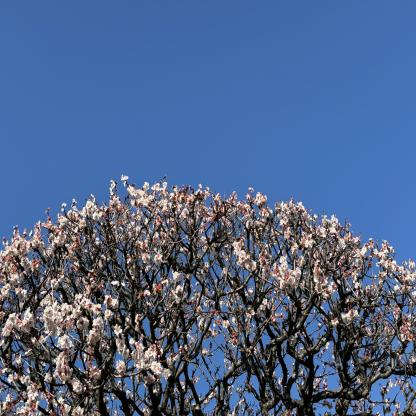Ume: (0, 174, 416, 416)
